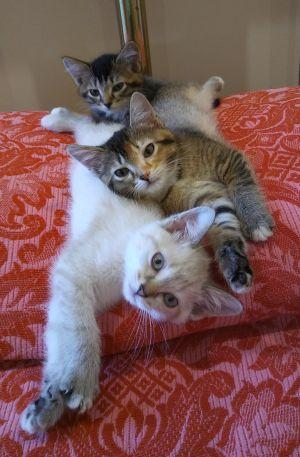bengal: (71, 92, 189, 205)
